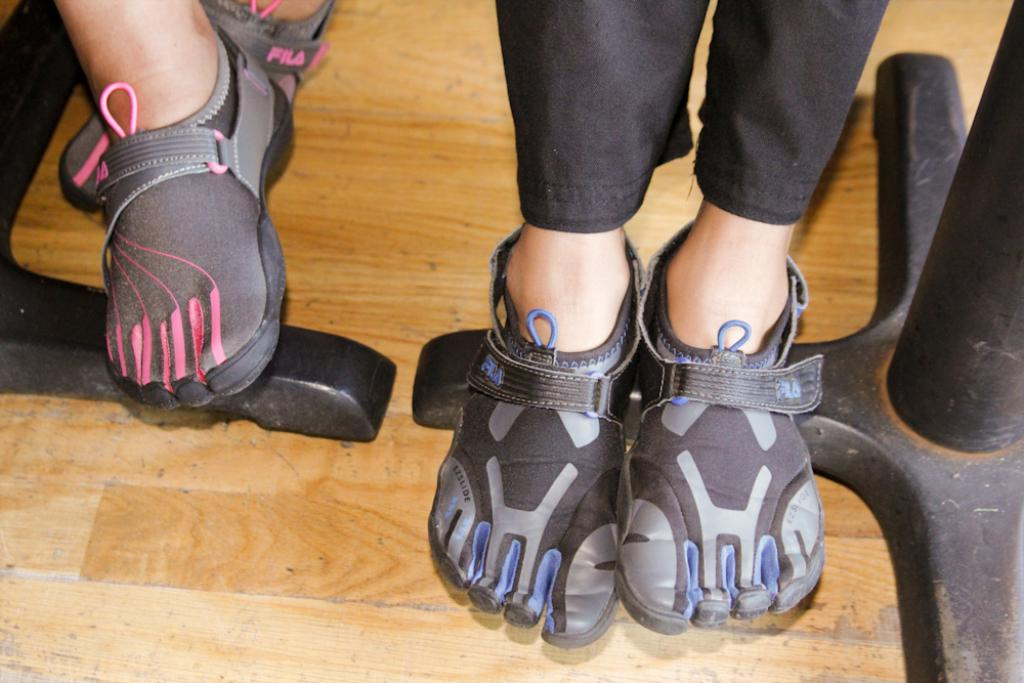Footwear: (424, 226, 656, 644), (610, 216, 825, 630), (55, 0, 345, 208)
